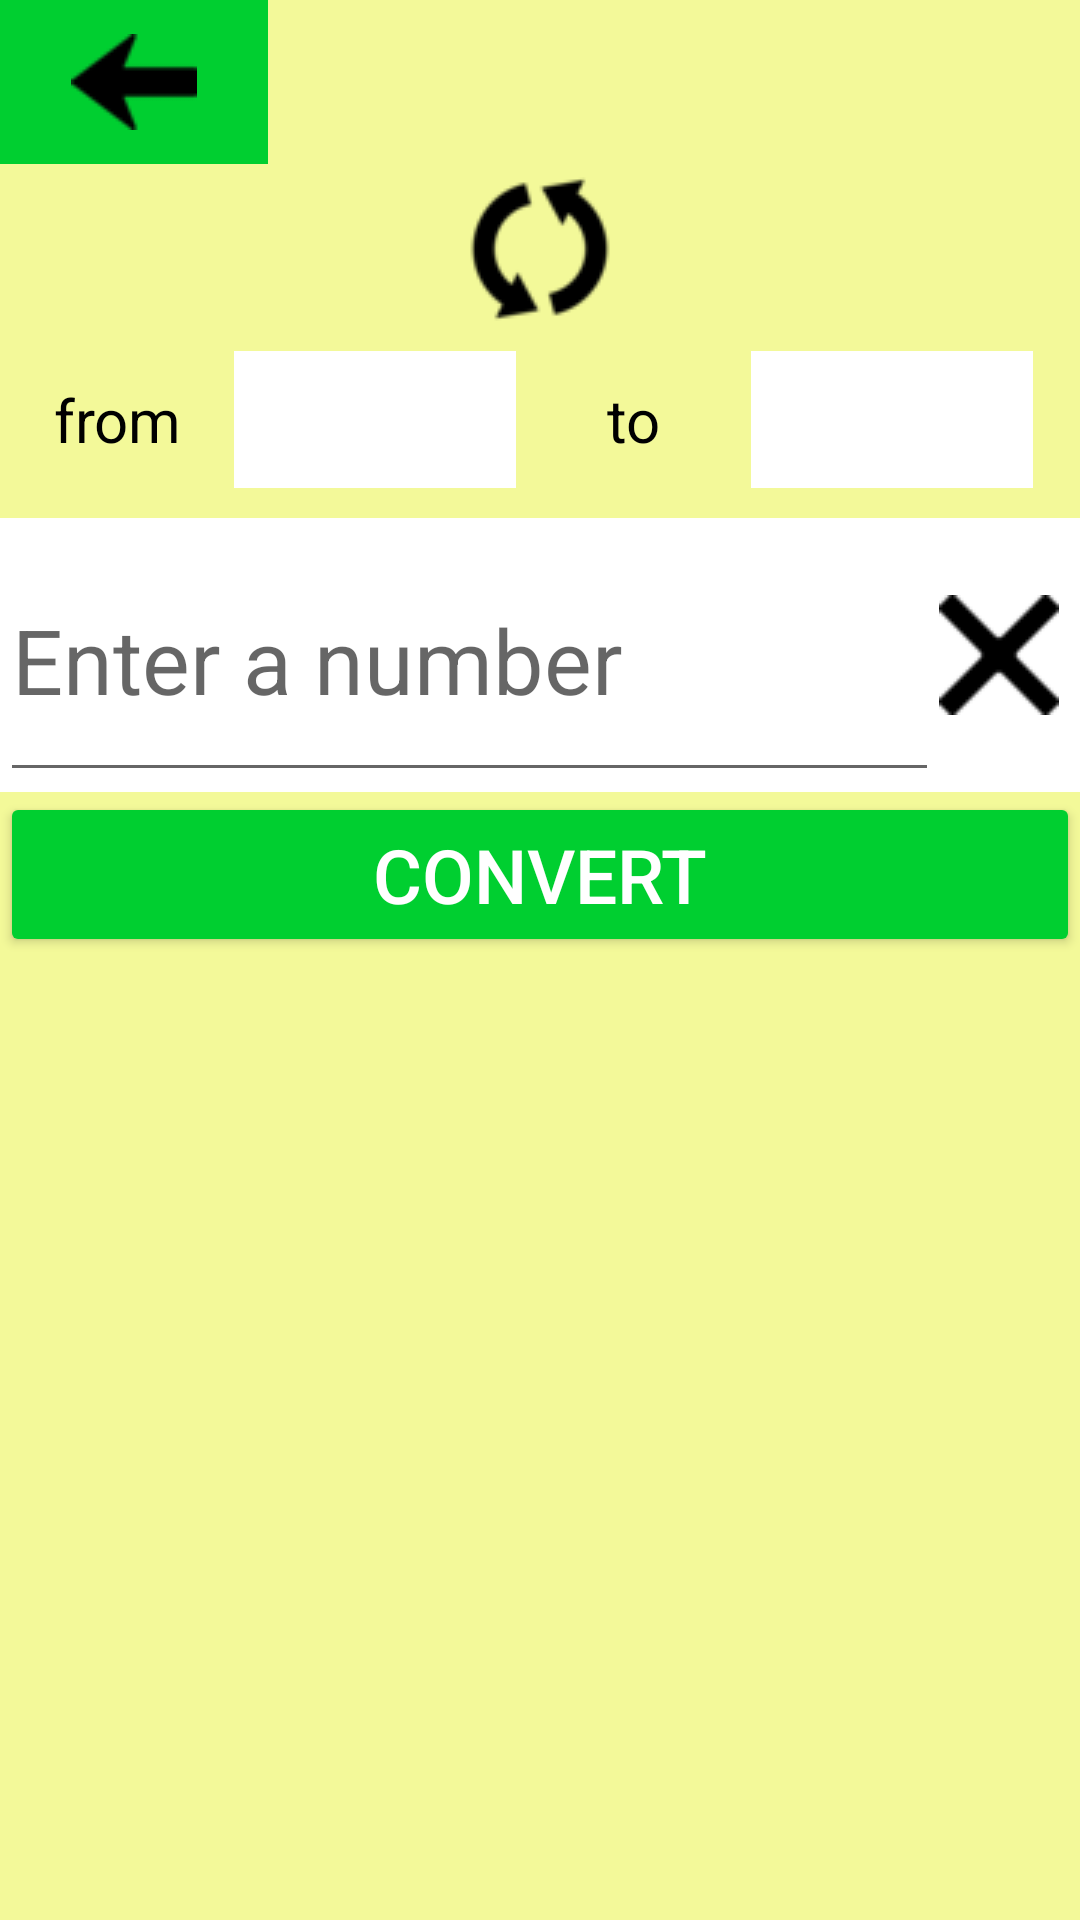

Screen size 1080*1920. Icon name, then its box in pixels as box(x1, y1, x2, y2):
cross: box(939, 595, 1059, 715)
pointer left: box(0, 0, 268, 164)
swap: box(470, 179, 610, 319)
